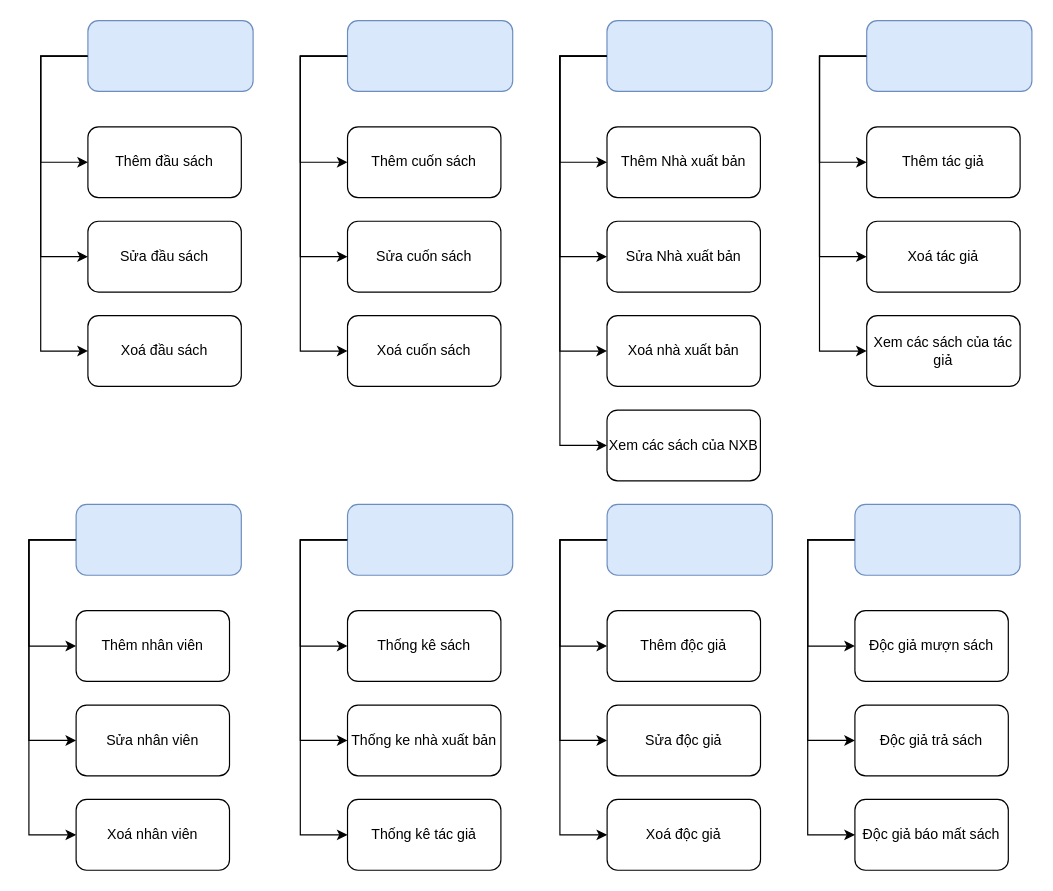
This 1053x891 diagram has some shape labels left out. The centre of each missing label's shape, as x and y in pixels:
MƯỢN/TRẢ SÁCH: point 937,539
QUẢN LÝ CUỐN SÁCH: point 429,55
QUẢN LÝ NHÂN VIÊN: point 158,539
QUẢN LÝ NXB: point 689,55
QUẢN LÝ TÁC GIẢ: point 949,55
QUẢN LÝ ĐẦU SÁCH: point 170,55
QUẢN LÝ ĐỘC GIẢ: point 689,539
THỐNG KÊ: point 429,539
